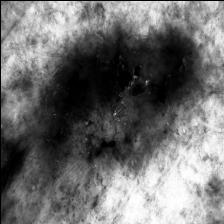Potentially Malignant Skin Tumors: (37, 29, 192, 172)
